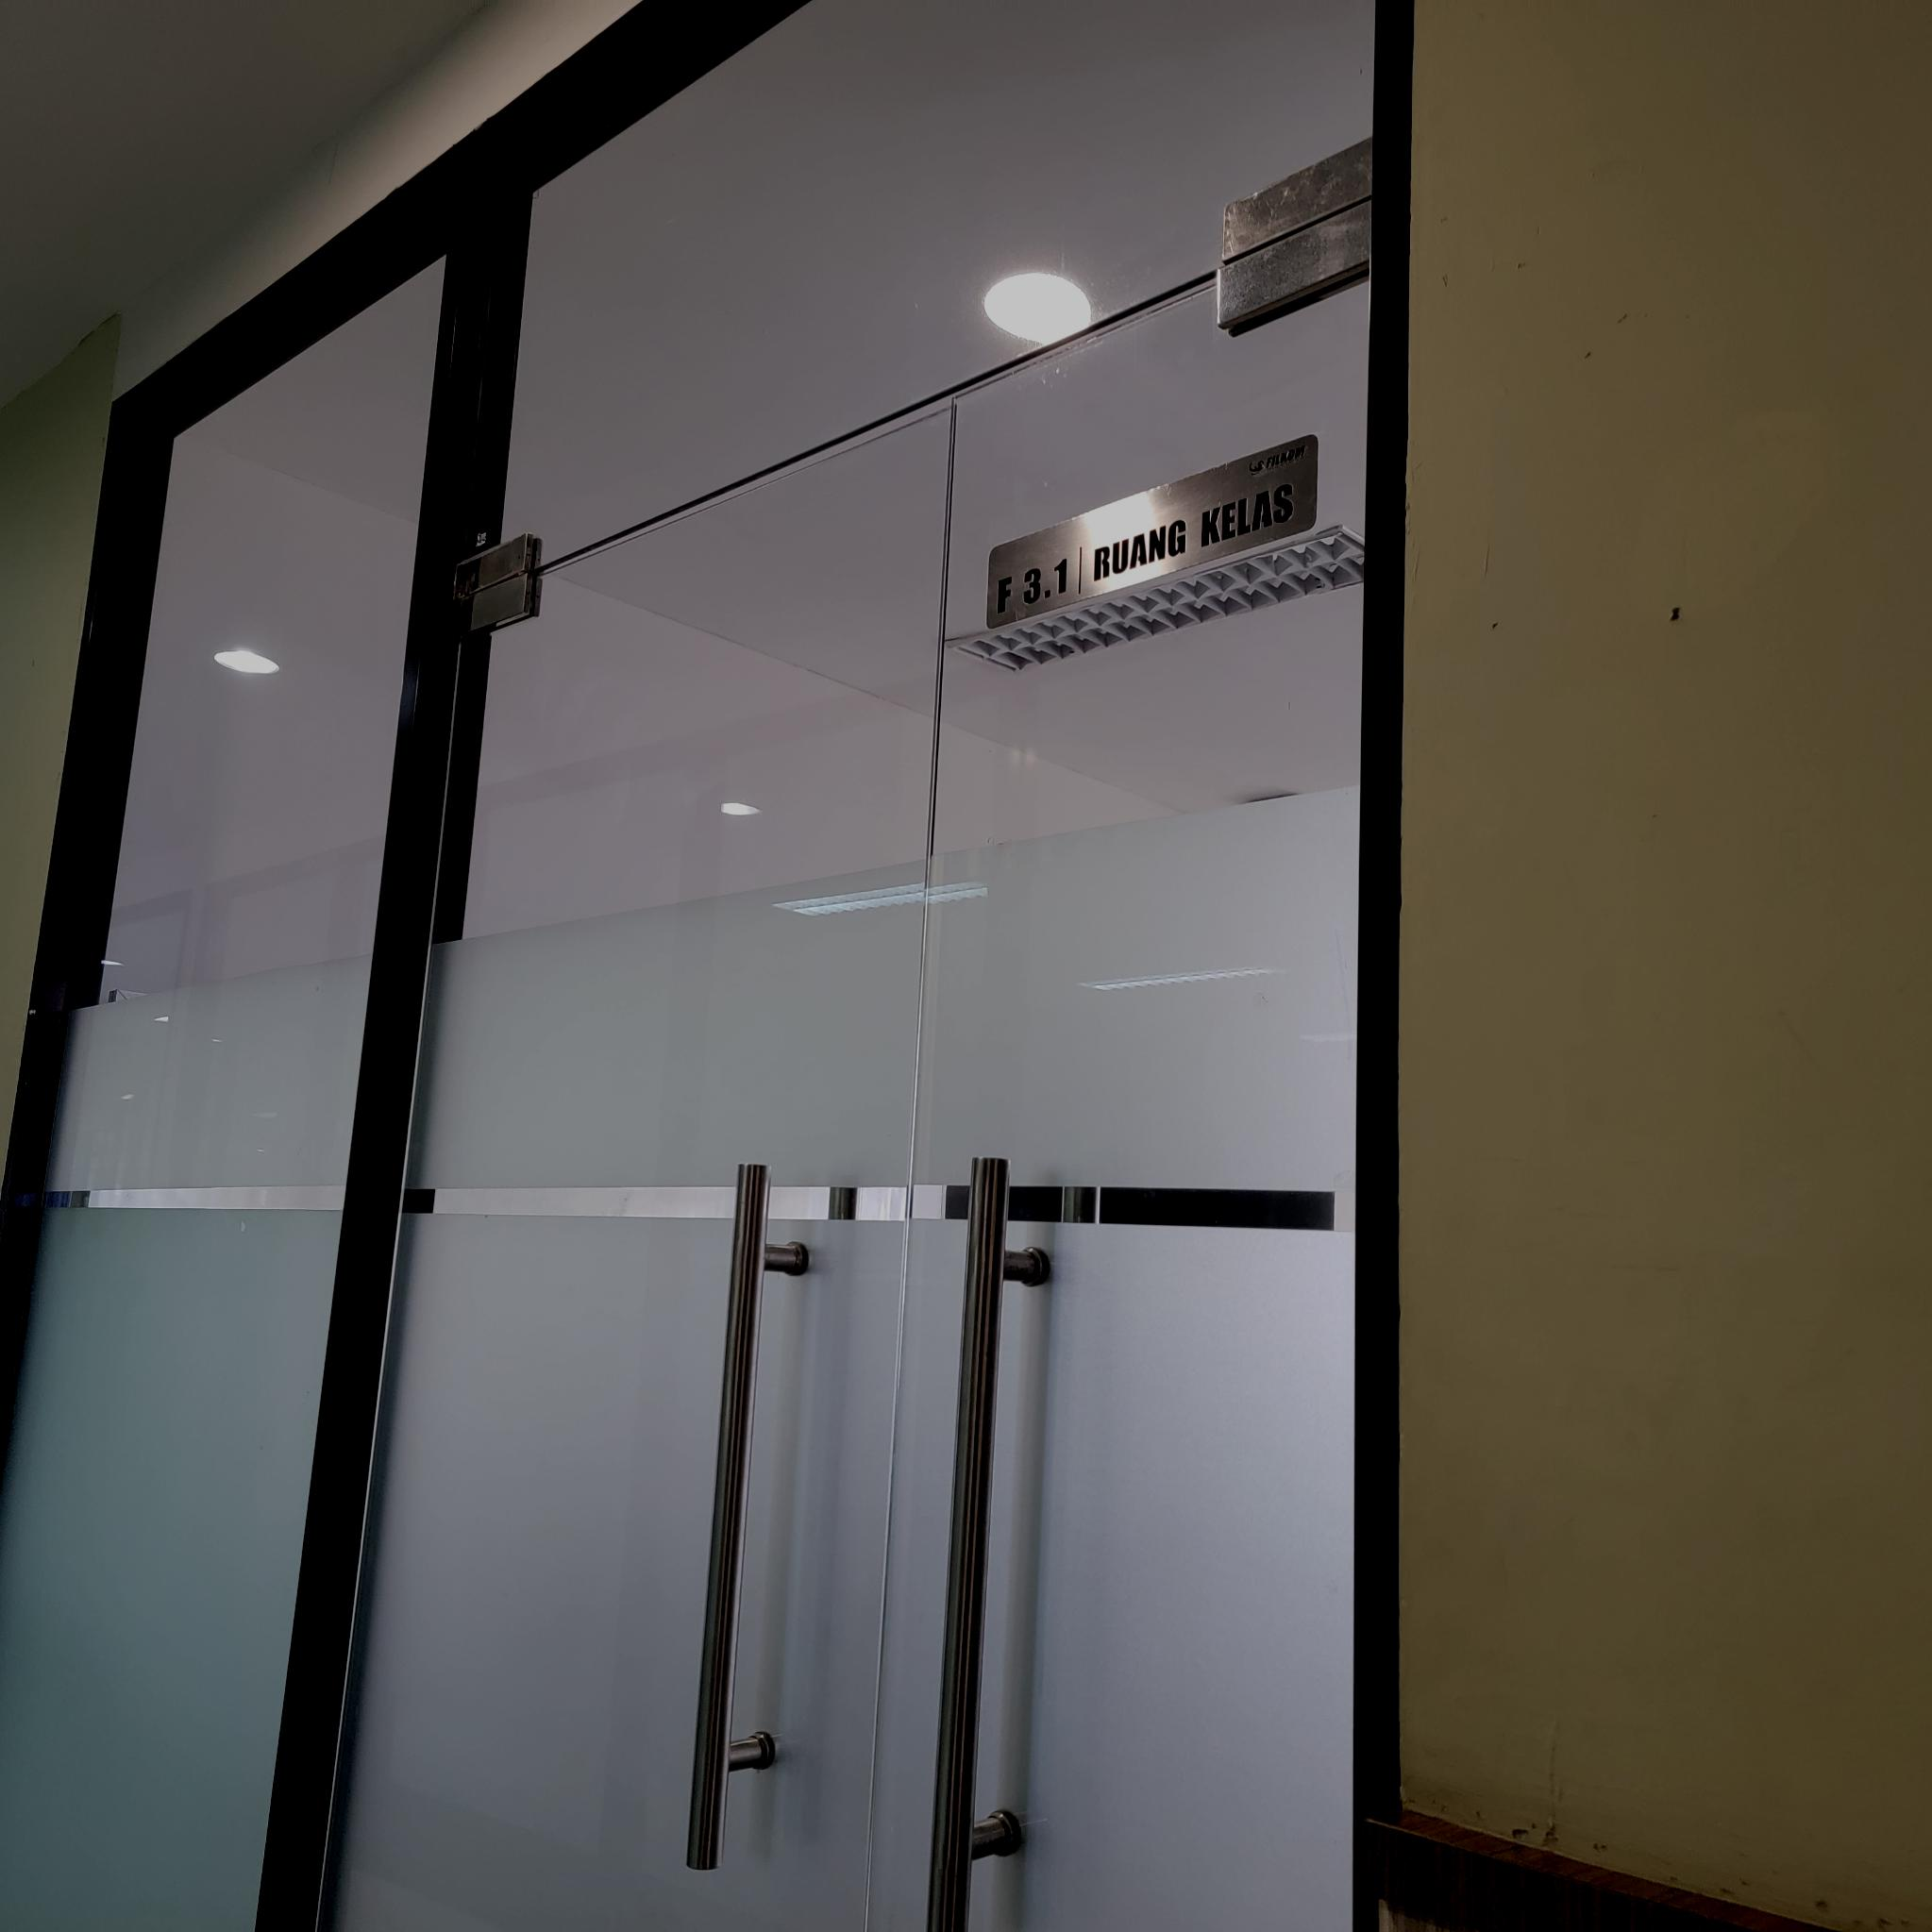plate: (984, 435, 1322, 630)
